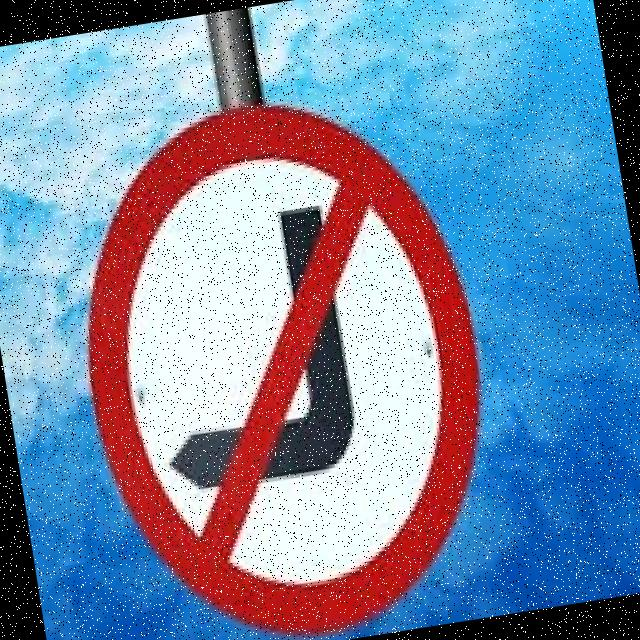do_not_turn_right: (39, 59, 531, 640)
